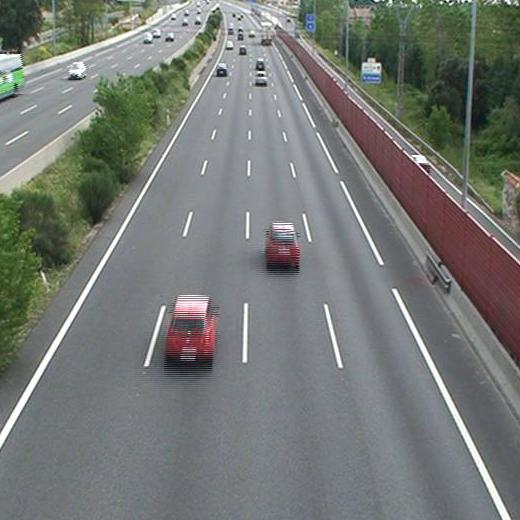car: (167, 295, 216, 358), (266, 224, 300, 264), (254, 72, 267, 85), (216, 62, 228, 76), (255, 59, 265, 70), (238, 47, 247, 55), (225, 40, 233, 49)
truck: (261, 24, 271, 44)
